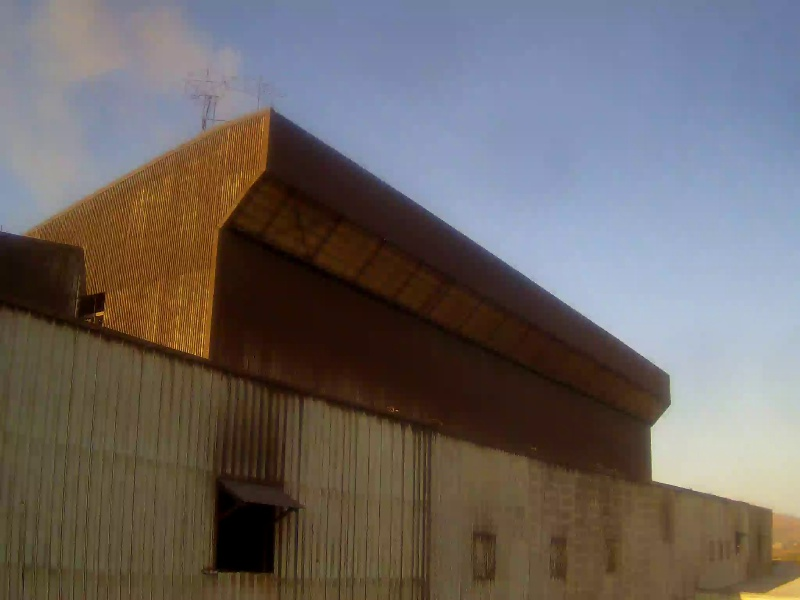Boa: (532, 1, 800, 224), (673, 226, 800, 481)
Ruim: (1, 1, 273, 205)
